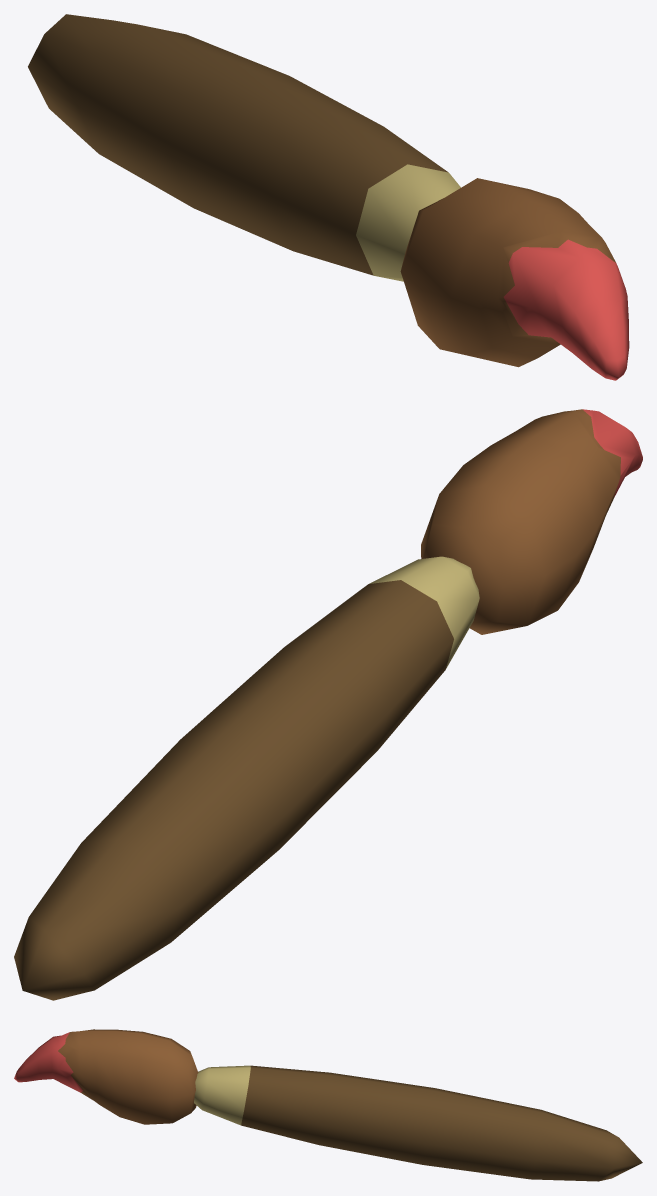
File: pinceau.fbx
3 views of the same model, one above another, from view 1: azimuth 30°, elevation 25°; view 2: azimuth 150°, elevation 25°; view 3: azimuth 270°, elevation 25° (orthographic). The views are drawn at different scales.
Parts seen in each view (by area): view 1: Cube.031; view 2: Cube.031; view 3: Cube.031.
Boxes of the visible parts, bbox=[...] form: Cube.031: bbox=[28, 14, 629, 380]; Cube.031: bbox=[14, 409, 642, 1000]; Cube.031: bbox=[14, 1029, 642, 1181].
Size of the model in its own units: 4.44 by 6.71 by 27.83.
